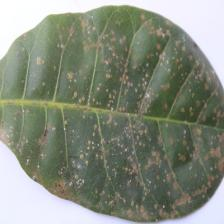red rust: (0, 5, 224, 222)
